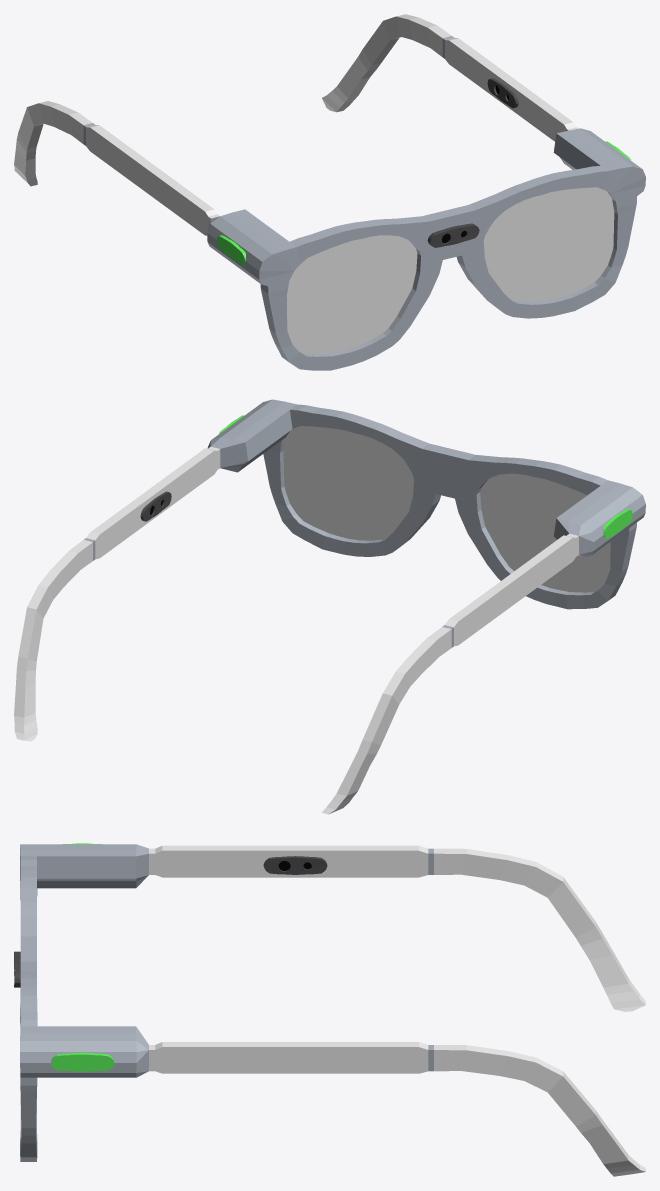
File: ARglasses.fbx
3 renders of one model, top to bottom at view 1: azimuth 30°, elevation 25°; view 2: azimuth 150°, elevation 25°; view 3: azimuth 270°, elevation 25°, orthographic. The views are drawn at different scales.
Visible parts, largest first — view 1: Circle.003; view 2: Circle.003; view 3: Circle.003.
Boxes of the visible parts, x1,y1,x2,y2 form: Circle.003: (14,14,645,370); Circle.003: (14,399,645,814); Circle.003: (14,843,645,1176).
Size of the model in its own units: 10.28 by 3.54 by 12.98.
